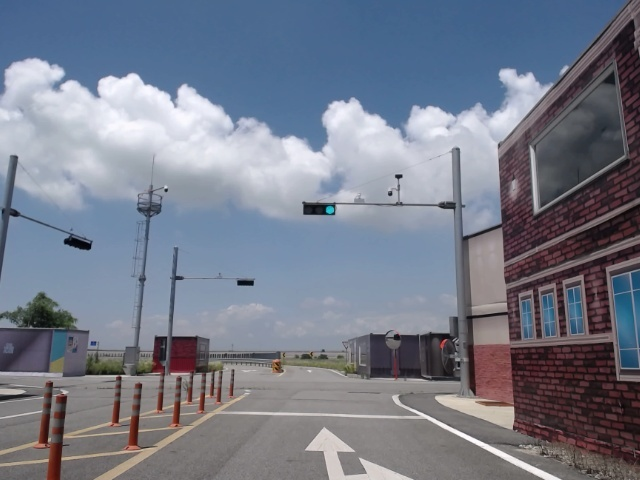green_3: (304, 204, 335, 214)
